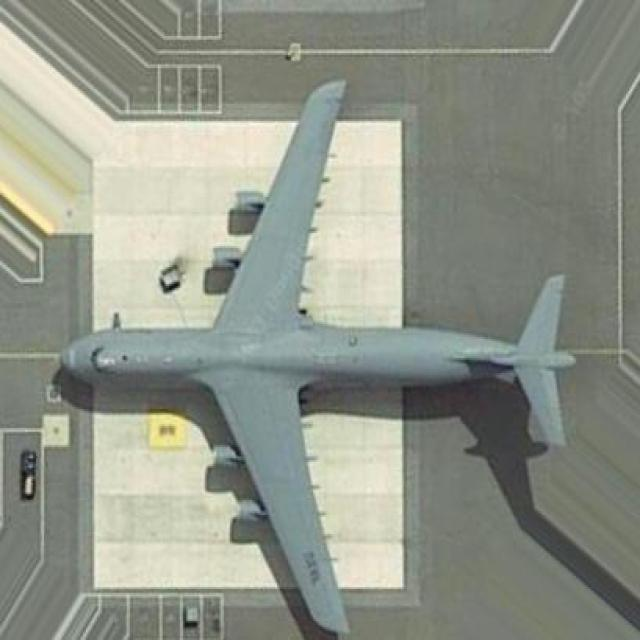C-5_TopDown: (50, 81, 592, 640)
